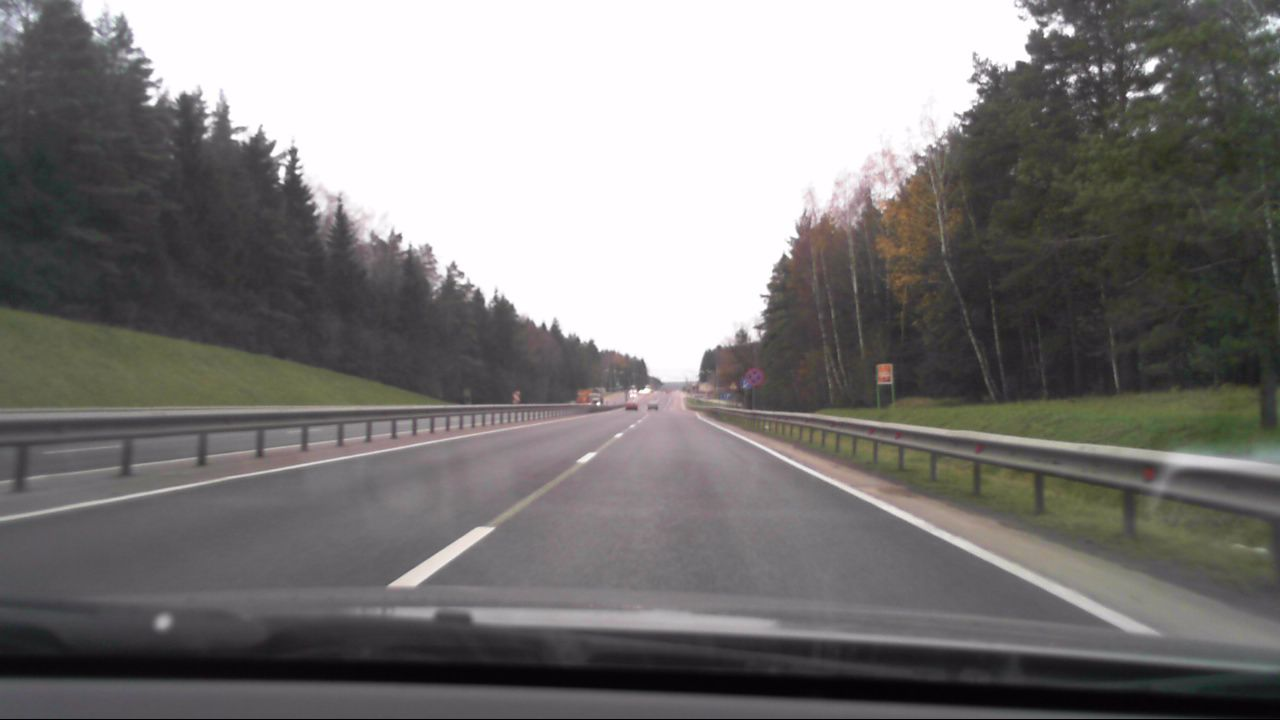No Parking: (743, 365, 764, 386)
